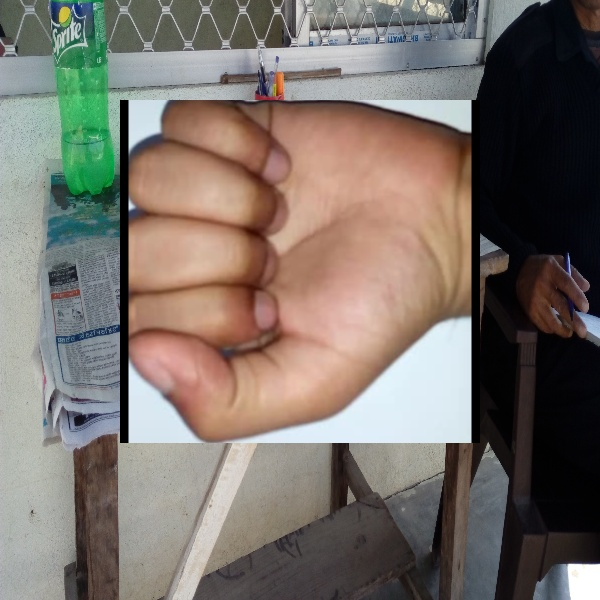A: (120, 100, 480, 443)
